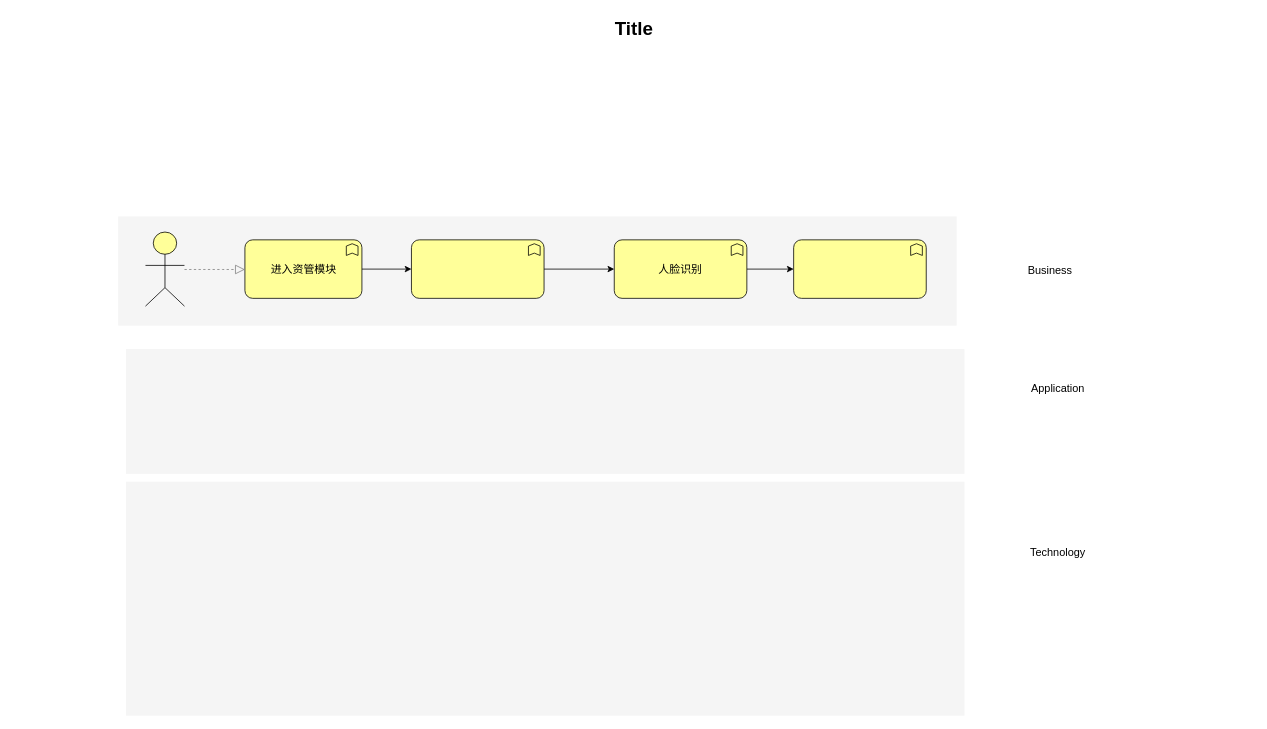
This 1267x729 diagram has some shape labels left out. Each missing label, with the centre of its shape:
"填写基本信息，认证短信" goes at point (477, 268).
"获取适当性" goes at point (859, 268).
